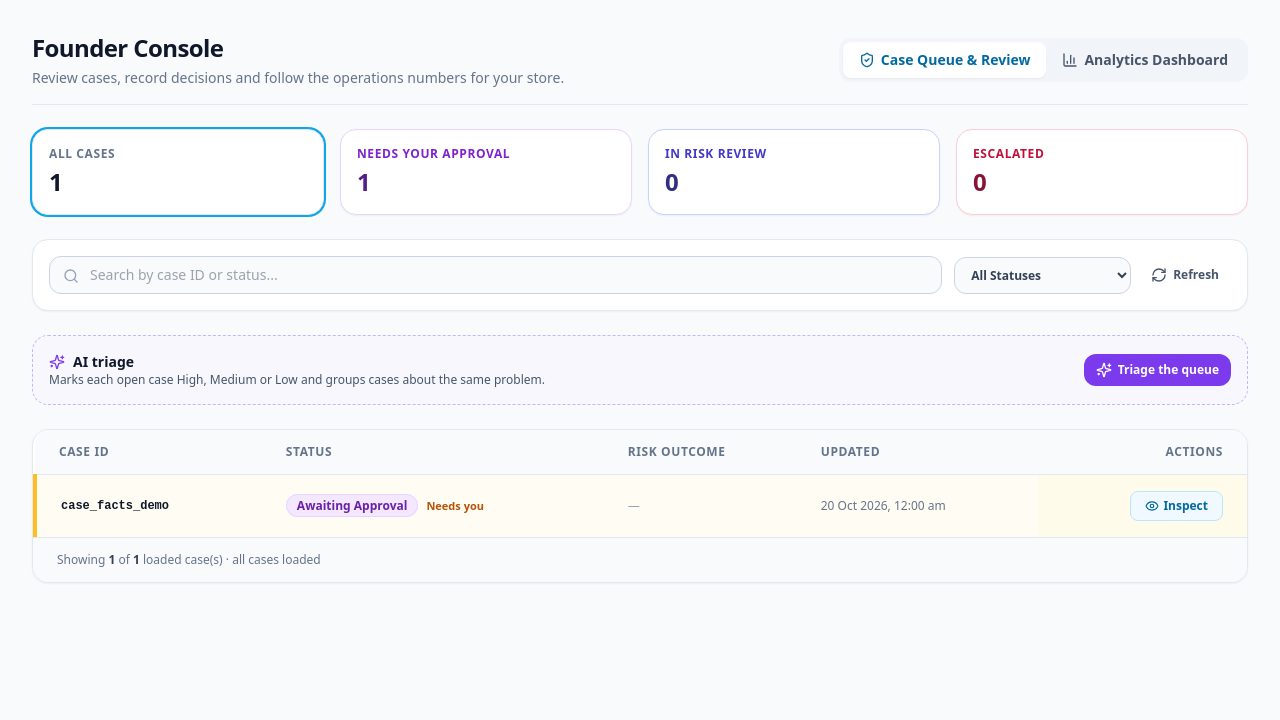
Test: FounderConsole advisory facts card (Issue #95) › shows all six fields under an advisory label when facts are present
Click the button "Inspect".
click(1177, 506)  # box [1130,491,1223,521]
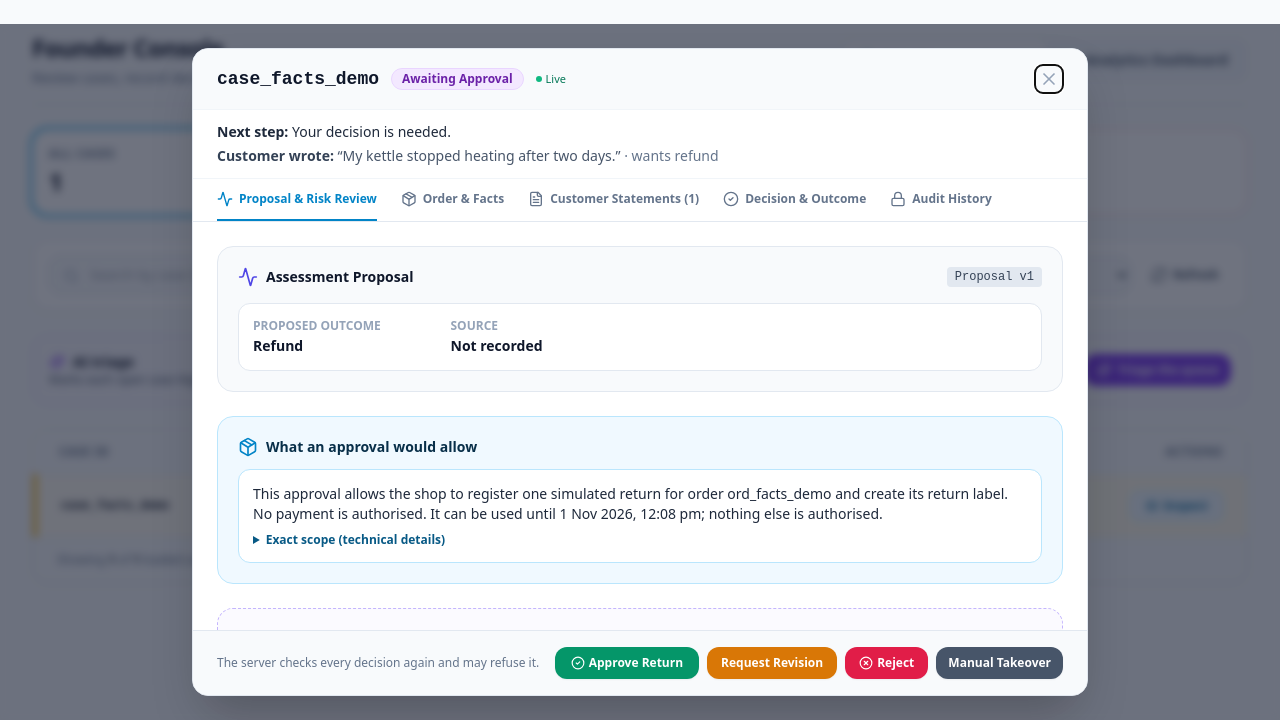
Click the tab "Order & Facts".
click(452, 200)  # box [401,179,504,221]
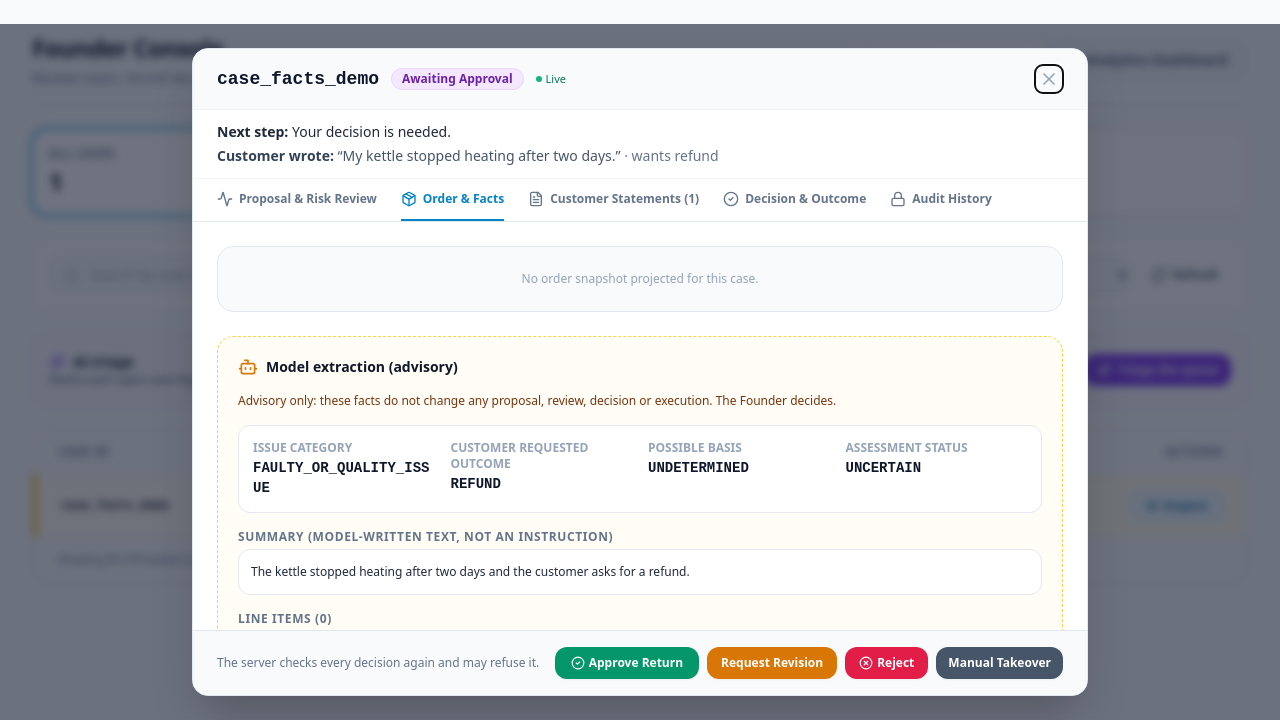
Expected: the text "No order snapshot projected for this case." is shown, [217,246,1063,312]
Expected: the heading "Model extraction (advisory)" is shown, [266,357,458,377]
Expected: the element "Model extraction (advisory)" shows "Advisory only: these facts do not change any proposal, review, decision or execution. The Founder decides.", [238,392,836,409]
